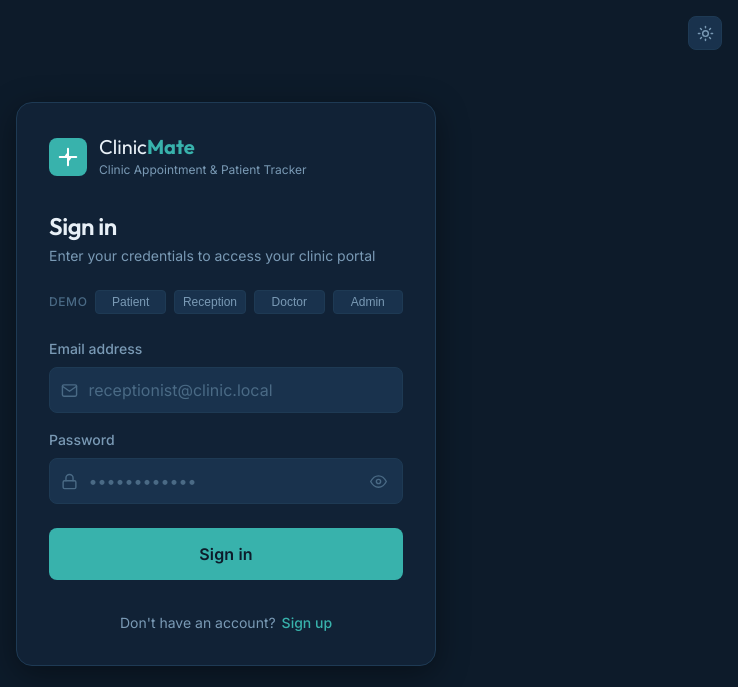
Test: Patient Login & Demo Account Verification › renders the Patient demo button on LoginPage and fills credentials when clicked
Click demo button
Click the button "Patient". click: (131, 302)
box: [96, 290, 166, 314]
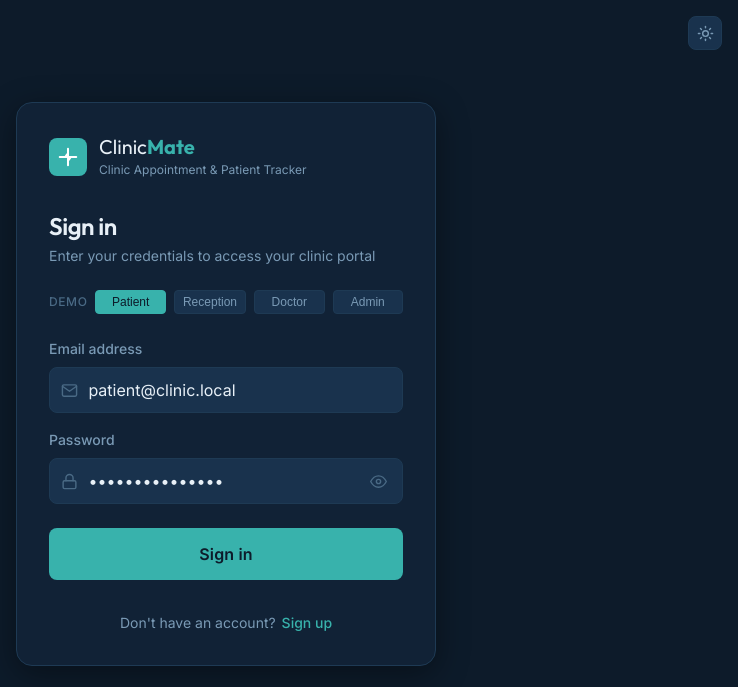
expect the field labelled "Email address" holds "patient@clinic.local": met, box [49, 367, 403, 413]
